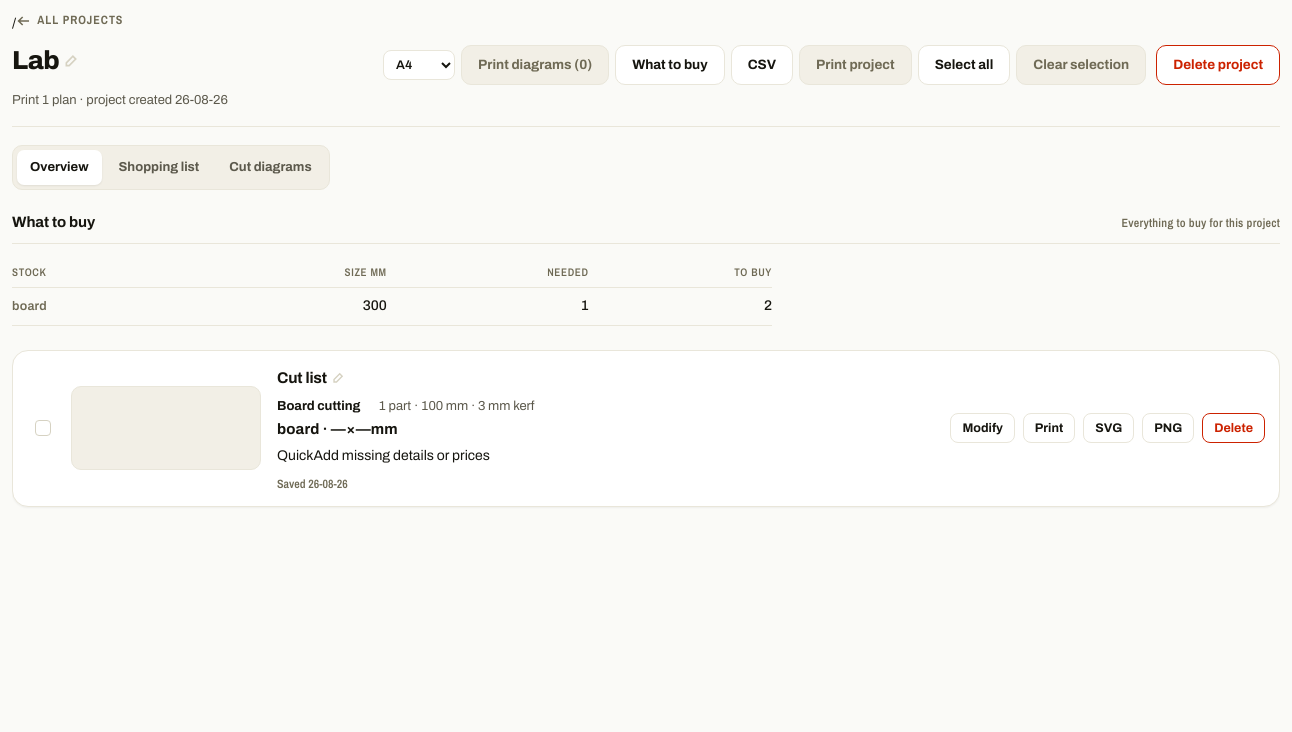
routes a saved plan to its optimizer for modification
Click the button "Modify" at (983, 428), box left=950, top=413, right=1015, bottom=443
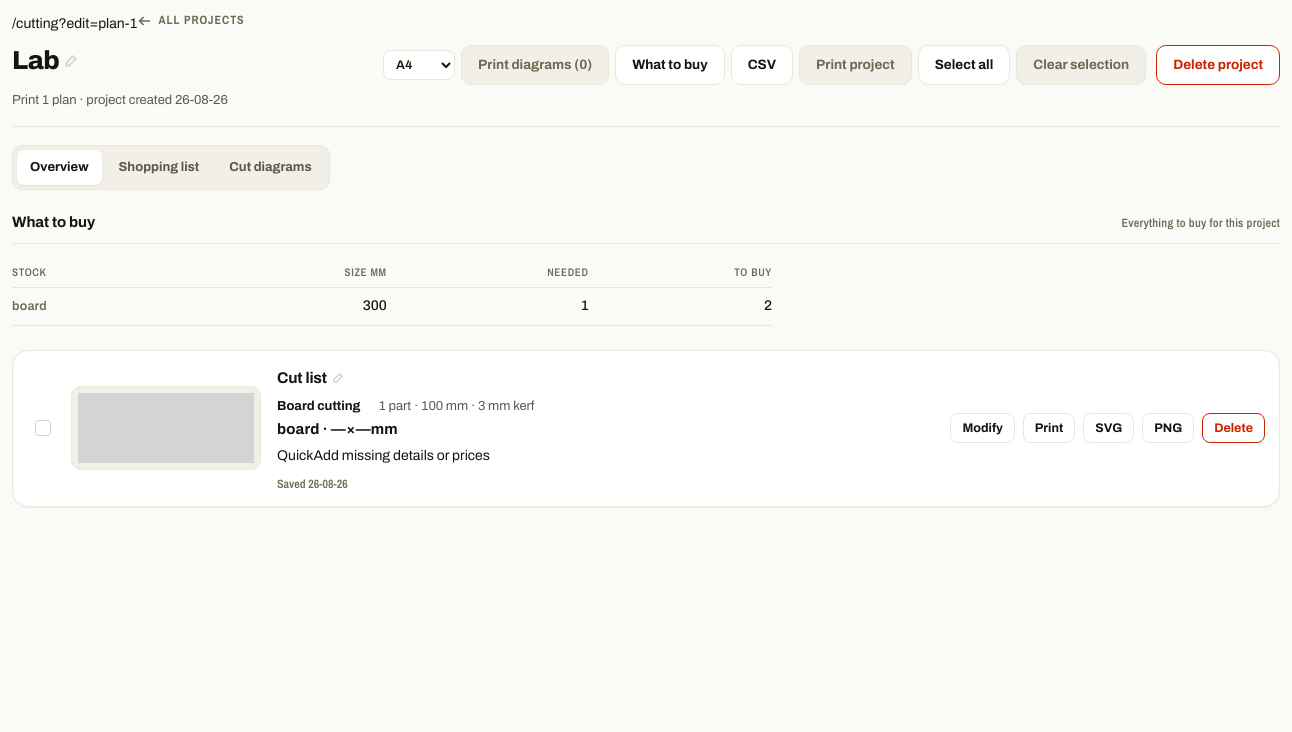
Expected: the text with test id "location" reads "/cutting?edit=plan-1", left=12, top=16, right=137, bottom=31
